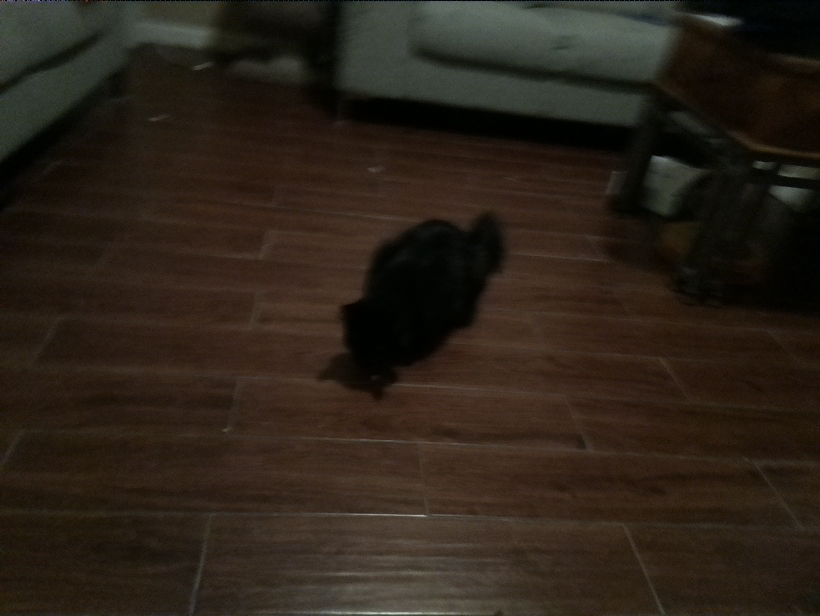cat: (327, 200, 508, 401)
